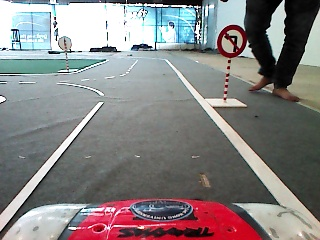ban: (215, 23, 248, 59)
